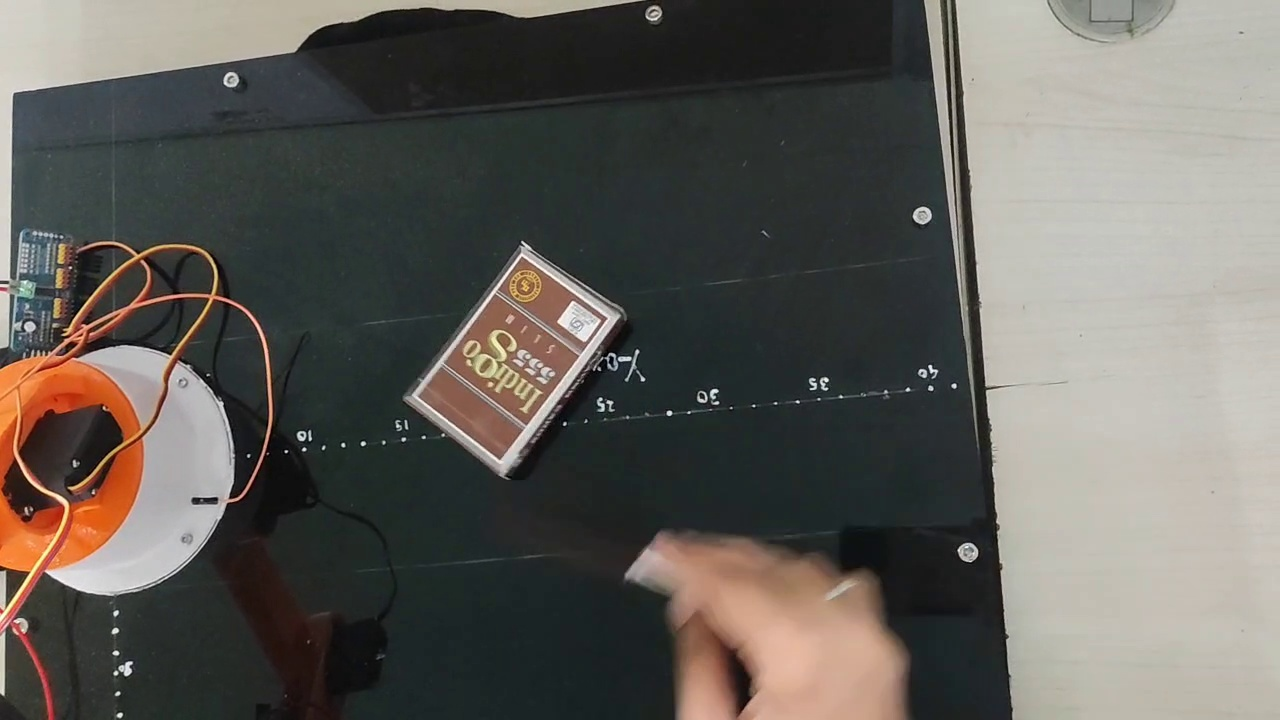BEX: (404, 248, 610, 462)
